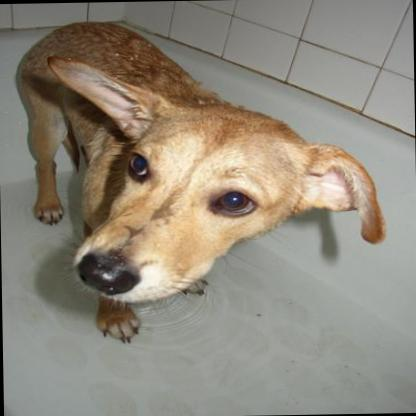dingo: (8, 11, 390, 346)
